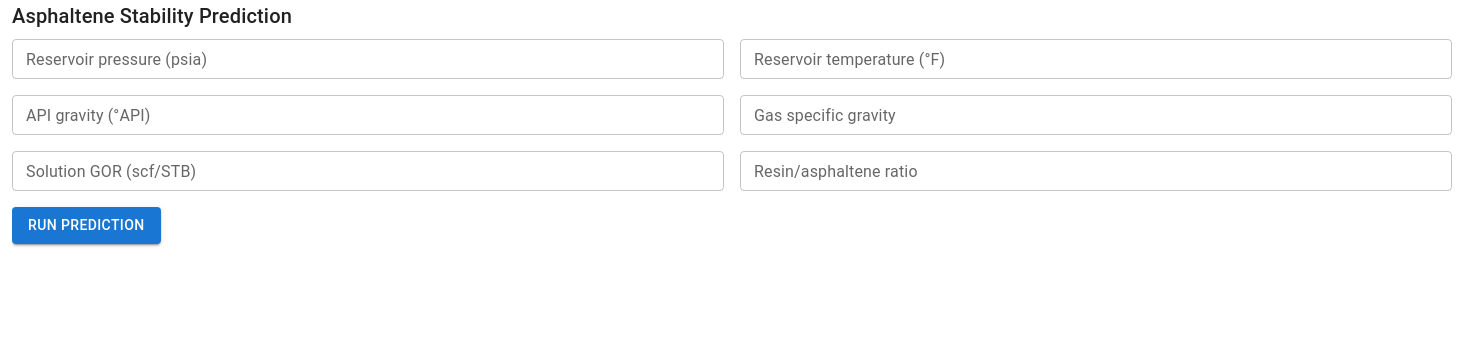
Test case: PredictionForm › shows validation errors when submitted empty
Click the button "Run Prediction" at [86, 225], box [12,207,161,244]
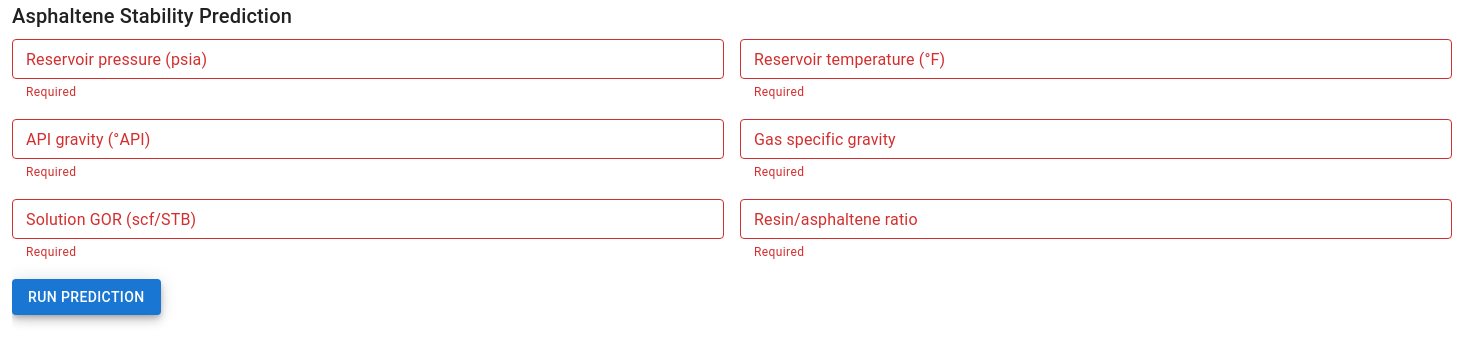
Result: the text "Required" is shown 6 times at [26,85,76,99]; [754,85,804,99]; [26,165,76,179]; [754,165,804,179]; [26,245,76,259]; [754,245,804,259]
